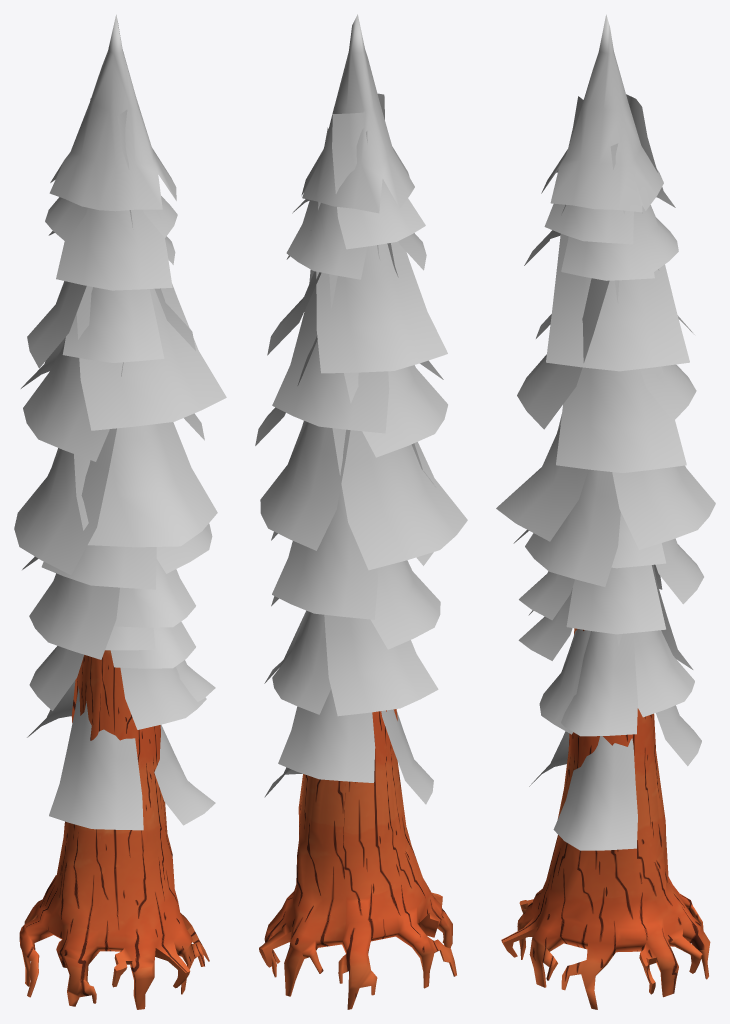
The model's file is Tree02.fbx.
3 views of the same model, side by side, from view 1: azimuth 30°, elevation 25°; view 2: azimuth 150°, elevation 25°; view 3: azimuth 270°, elevation 25° (orthographic).
Parts seen in each view (by area): view 1: Tree02; view 2: Tree02; view 3: Tree02.
Boxes of the visible parts, left/top/right/bottom form: Tree02: left=14, top=14, right=226, bottom=1009; Tree02: left=255, top=14, right=467, bottom=1009; Tree02: left=496, top=14, right=715, bottom=1009.
Bounding box in the file's own units: 394 × 1947 × 404.
